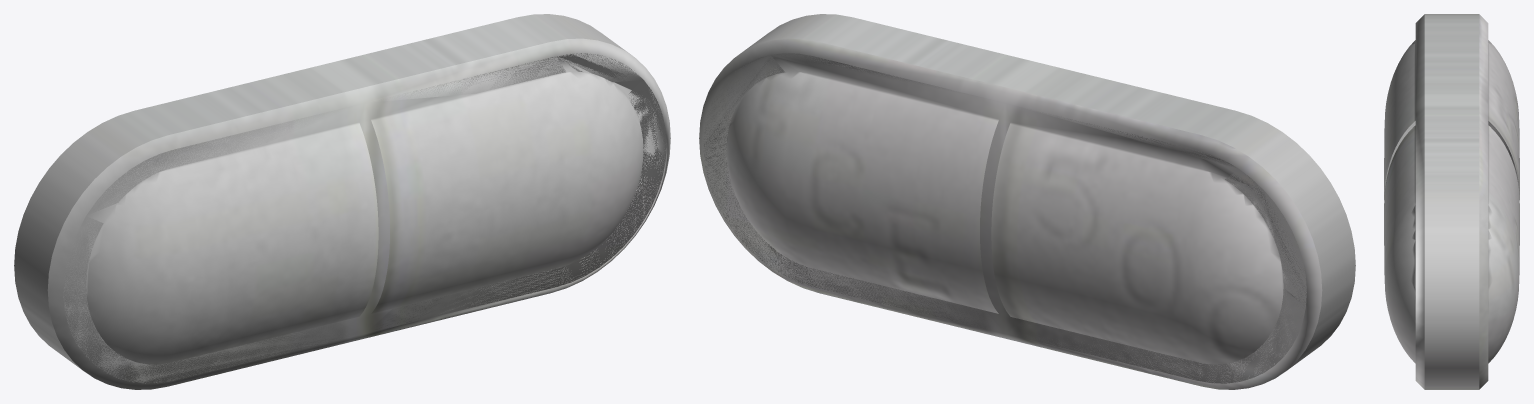
The model's file is 20151103GOPHDRGPT04121.fbx.
The picture shows the model from 3 angles, left to right: view 1: azimuth 30°, elevation 25°; view 2: azimuth 150°, elevation 25°; view 3: azimuth 270°, elevation 25°; orthographic projection. The views are drawn at different scales.
Visible parts, largest first — view 1: BezierCircle; view 2: BezierCircle; view 3: BezierCircle.
Boxes of the visible parts, x1,y1,x2,y2 form: BezierCircle: [14, 14, 670, 389]; BezierCircle: [699, 14, 1355, 389]; BezierCircle: [1384, 14, 1519, 389].
Bounding box in the file's own units: 2.33 × 0.897 × 0.5418.
1 material, 1 textured.
